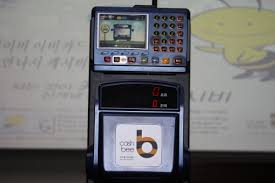terminal: (88, 4, 192, 179)
